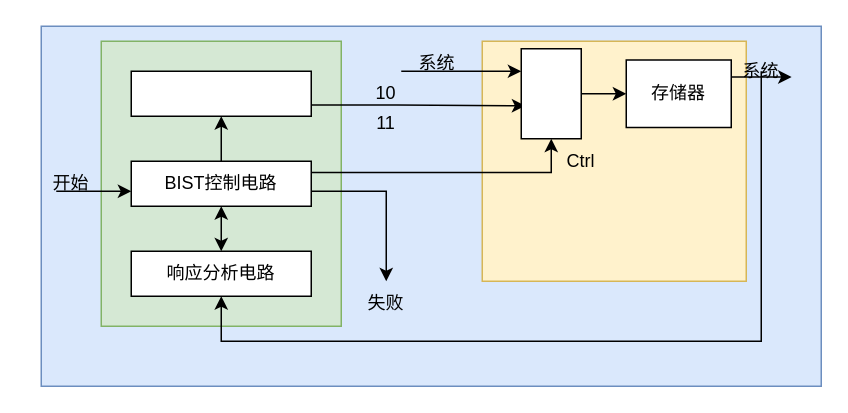
The diagram is 848 pixels wide and 413 high, and some of its shapes have lost their labels. Here are the shapes that lost their labels. From the top down, the centre of each, then its label:
At point 220,93: "向量产生电路".
At point 550,93: "MUX".
